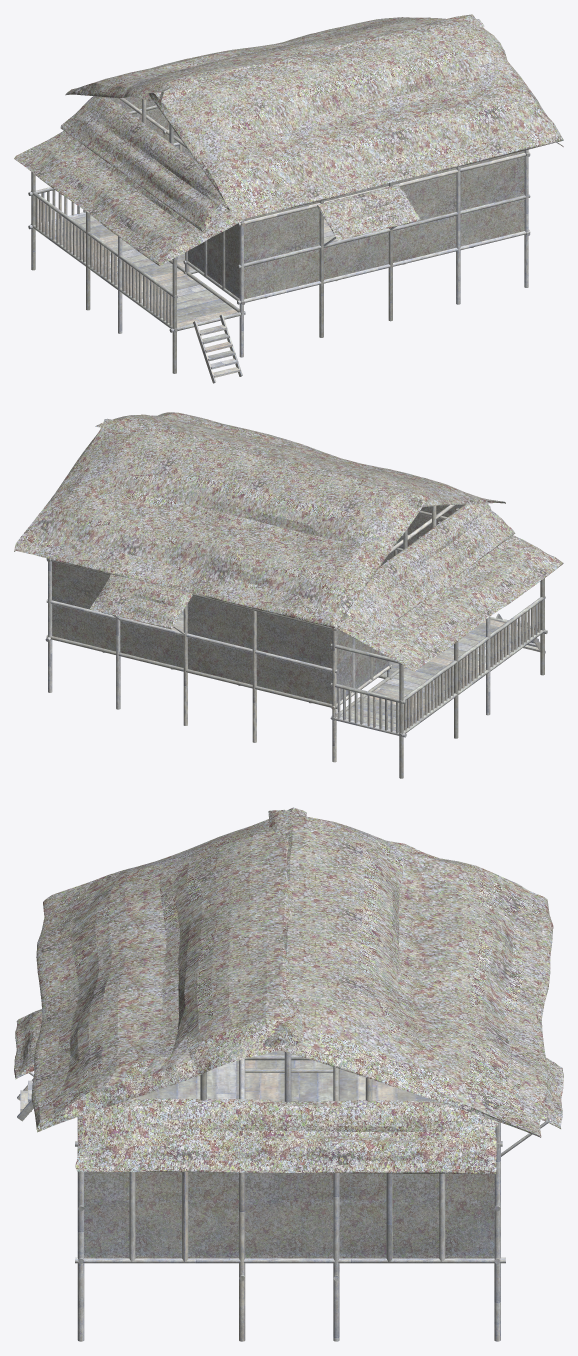
The picture shows the model from 3 angles, top to bottom: view 1: azimuth 30°, elevation 25°; view 2: azimuth 150°, elevation 25°; view 3: azimuth 270°, elevation 25°; orthographic projection. The views are drawn at different scales.
Parts seen in each view (by area): view 1: Meshpart1, Meshpart2, Meshpart3, Part39, Part38, Meshpart5, Part64, Part31, Part30, Meshpart7, Part8, Part7 (+21 smaller); view 2: Meshpart5, Meshpart2, Meshpart3, Part161, Part156, Meshpart1, Part137, Part136, Part64, Meshpart6, Part169, Part168 (+20 smaller); view 3: Meshpart5, Meshpart1, Part105, Part104, Meshpart4, Union5, Part113, Part116, Part69, Part144, Meshpart7, Part175 (+5 smaller).
Boxes of the visible parts, bbox=[...] form: Meshpart1: bbox=[148, 14, 563, 220]; Meshpart2: bbox=[14, 131, 242, 266]; Meshpart3: bbox=[60, 96, 227, 231]; Part39: bbox=[244, 199, 524, 299]; Part38: bbox=[244, 199, 524, 299]; Meshpart5: bbox=[65, 17, 484, 102]; Part64: bbox=[38, 214, 237, 327]; Part31: bbox=[399, 157, 524, 225]; Part30: bbox=[400, 157, 524, 225]; Meshpart7: bbox=[317, 185, 420, 240]; Part8: bbox=[244, 207, 319, 263]; Part7: bbox=[244, 207, 319, 263]; Meshpart5: bbox=[14, 418, 428, 628]; Meshpart2: bbox=[336, 535, 563, 671]; Meshpart3: bbox=[346, 503, 515, 638]; Part161: bbox=[52, 604, 332, 704]; Part156: bbox=[52, 604, 332, 703]; Meshpart1: bbox=[95, 412, 505, 507]; Part137: bbox=[187, 596, 332, 668]; Part136: bbox=[187, 596, 332, 668]; Part64: bbox=[340, 619, 537, 731]; Meshpart6: bbox=[90, 574, 192, 629]; Part169: bbox=[52, 561, 109, 609]; Part168: bbox=[52, 561, 109, 609]; Meshpart5: bbox=[264, 809, 553, 1137]; Meshpart1: bbox=[31, 807, 306, 1132]; Part105: bbox=[84, 1171, 494, 1258]; Part104: bbox=[84, 1171, 494, 1258]; Meshpart4: bbox=[75, 1098, 498, 1174]; Union5: bbox=[129, 1172, 445, 1261]; Part113: bbox=[245, 1073, 333, 1101]; Part116: bbox=[75, 1257, 505, 1263]; Part69: bbox=[131, 1060, 238, 1099]; Part144: bbox=[339, 1069, 436, 1101]; Meshpart7: bbox=[14, 1009, 42, 1079]; Part175: bbox=[494, 1103, 500, 1341].
Bounding box in the file's own units: 35.85 × 18.49 × 28.31.
Materials: 6 (6 with a texture image).
